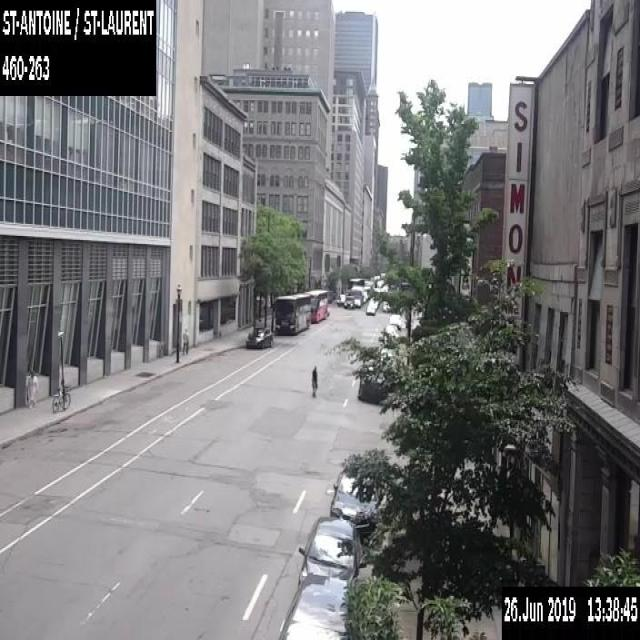bus: (273, 292, 310, 334), (304, 288, 327, 322), (347, 276, 369, 292)
pedestrian: (26, 365, 38, 407), (309, 363, 318, 397), (181, 325, 189, 356)
vehicle: (275, 572, 359, 638), (331, 458, 388, 536), (300, 513, 364, 582), (357, 365, 387, 403), (244, 326, 273, 349), (348, 284, 363, 308), (382, 323, 397, 340), (380, 347, 395, 363), (388, 313, 402, 330), (344, 294, 354, 308), (367, 297, 378, 309), (365, 302, 375, 314), (382, 300, 391, 311), (336, 293, 345, 304)
